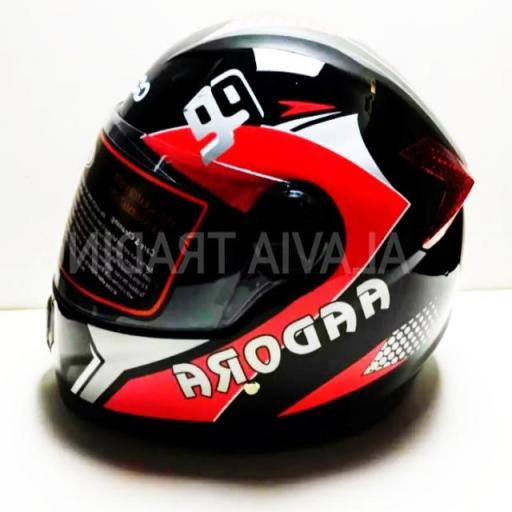Helmet: (48, 24, 472, 423)
